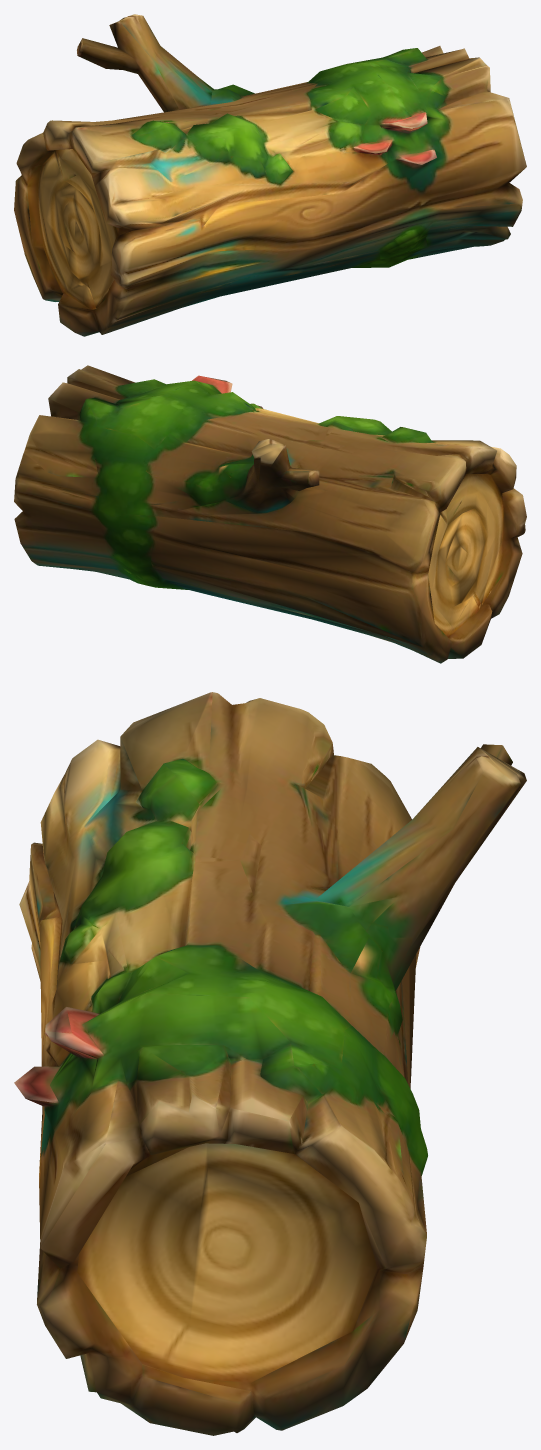
The model's file is fal-driftwood-lite.glb.
3 renders of one model, top to bottom at view 1: azimuth 30°, elevation 25°; view 2: azimuth 150°, elevation 25°; view 3: azimuth 270°, elevation 25°, orthographic. The views are drawn at different scales.
Visible parts, largest first — view 1: node_0; view 2: node_0; view 3: node_0.
Boxes of the visible parts, x1,y1,x2,y2 form: node_0: (14, 14, 526, 336); node_0: (14, 365, 526, 663); node_0: (14, 692, 526, 1435).
Bounding box in the file's own units: 1.81 × 0.9949 × 1.06.
Materials: 1 (1 with a texture image).
